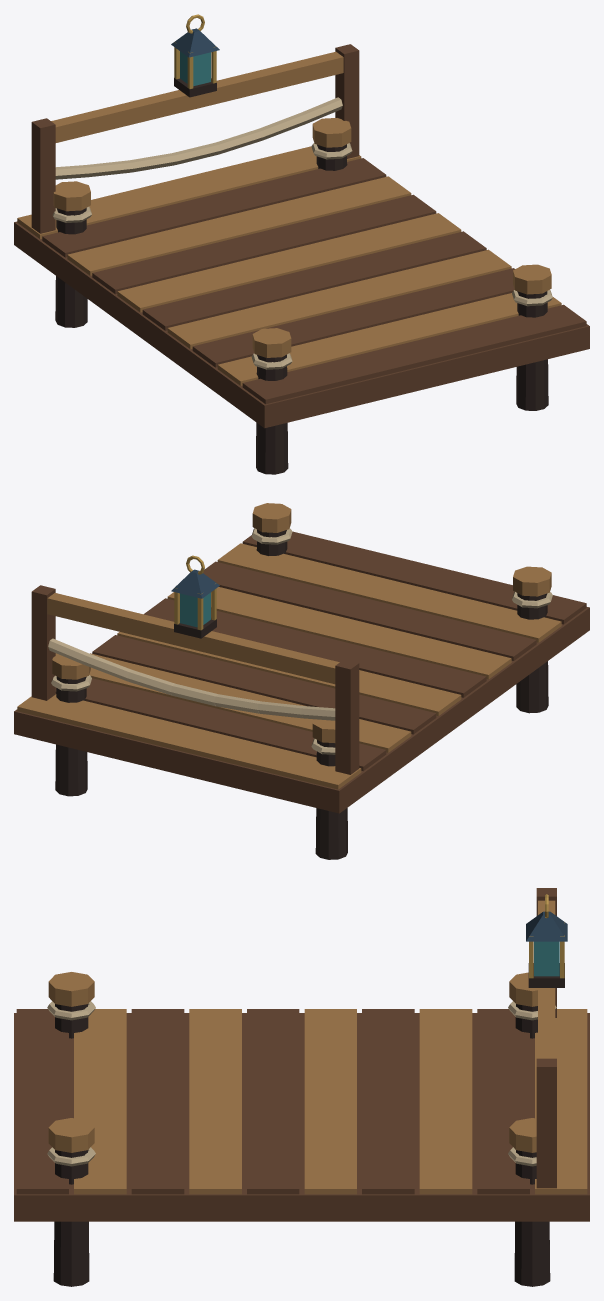
The model's file is PirateCove_DockEnd_Showcase.glb.
3 views of the same model, one above another, from view 1: azimuth 30°, elevation 25°; view 2: azimuth 150°, elevation 25°; view 3: azimuth 270°, elevation 25° (orthographic). The views are drawn at different scales.
Parts seen in each view (by area): view 1: PirateCove_DockEnd_Showcase; view 2: PirateCove_DockEnd_Showcase; view 3: PirateCove_DockEnd_Showcase.
Part boxes in pixels (<box>): PirateCove_DockEnd_Showcase: <box>14,14,589,474</box>; PirateCove_DockEnd_Showcase: <box>14,503,589,859</box>; PirateCove_DockEnd_Showcase: <box>14,888,589,1286</box>.
Size of the model in its own units: 3 by 2.38 by 4.
